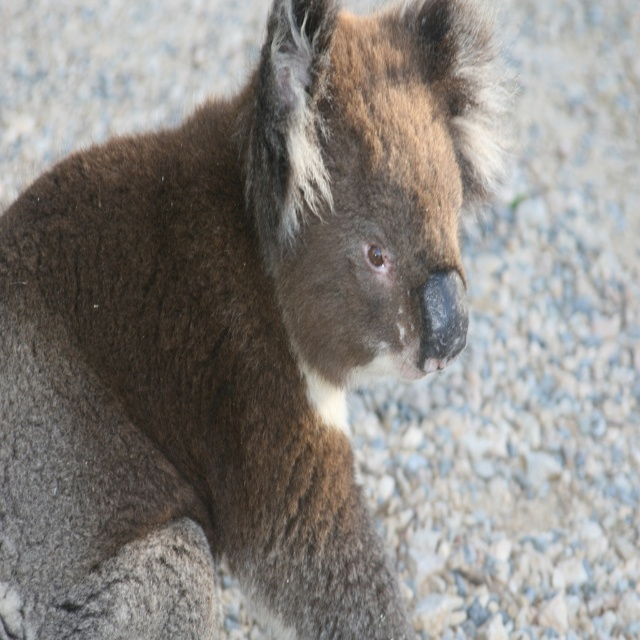Koala: (0, 0, 524, 639)
